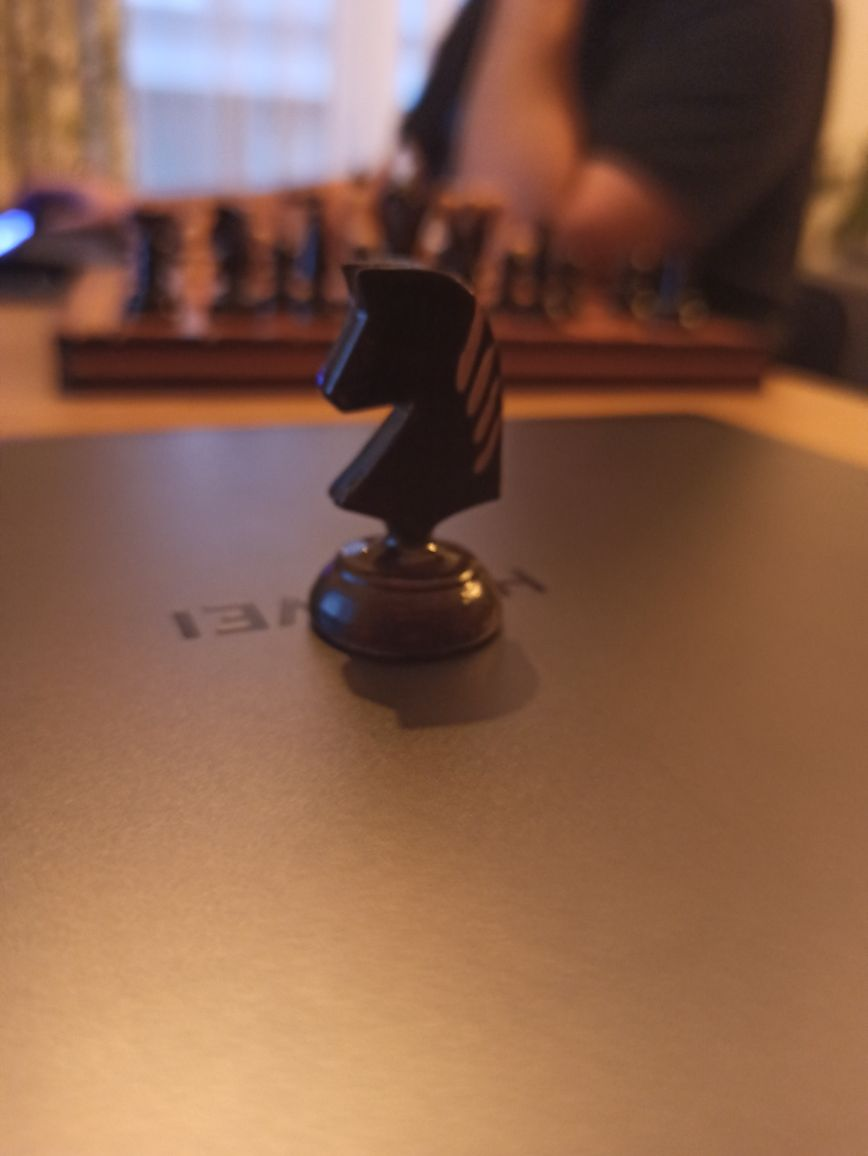bknight: (307, 264, 508, 666)
